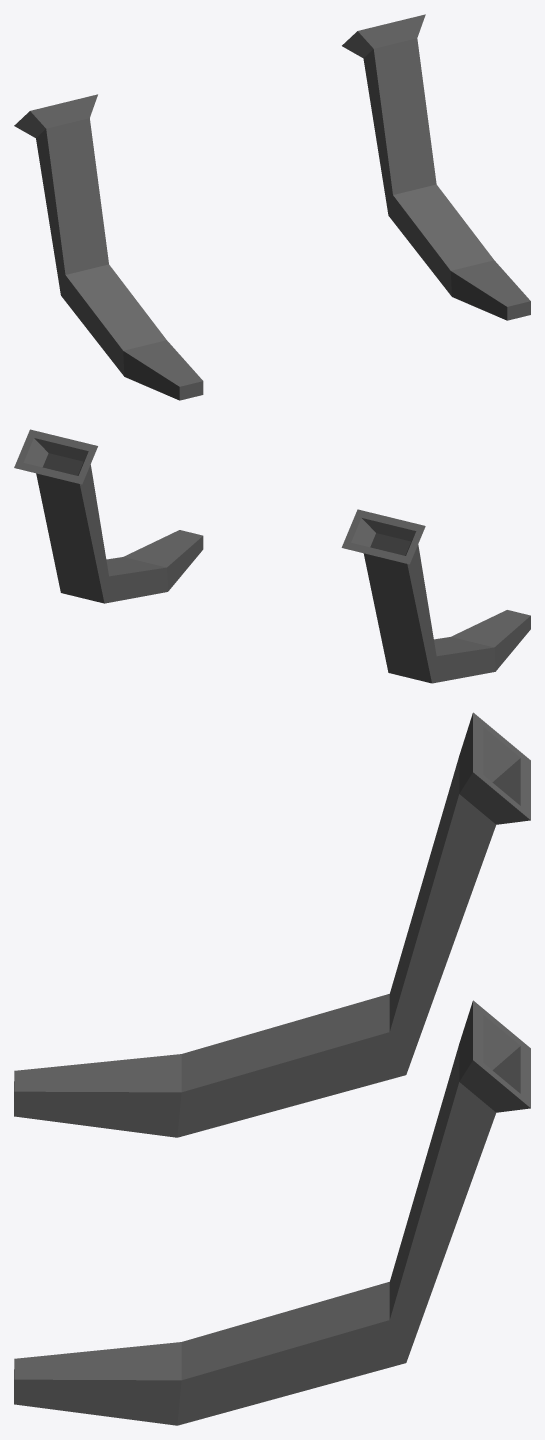
Rendered from exhaust4.glb.
3 views of the same model, one above another, from view 1: azimuth 30°, elevation 25°; view 2: azimuth 150°, elevation 25°; view 3: azimuth 270°, elevation 25° (orthographic). The views are drawn at different scales.
Parts seen in each view (by area): view 1: exhaust4; view 2: exhaust4; view 3: exhaust4.
Part boxes in pixels (x1,y1,x2,y2): exhaust4: (14,14,530,400); exhaust4: (14,429,530,683); exhaust4: (14,712,530,1425).
Bounding box in the file's own units: 1.77 × 0.8907 × 1.11.
1 material, 1 textured.
